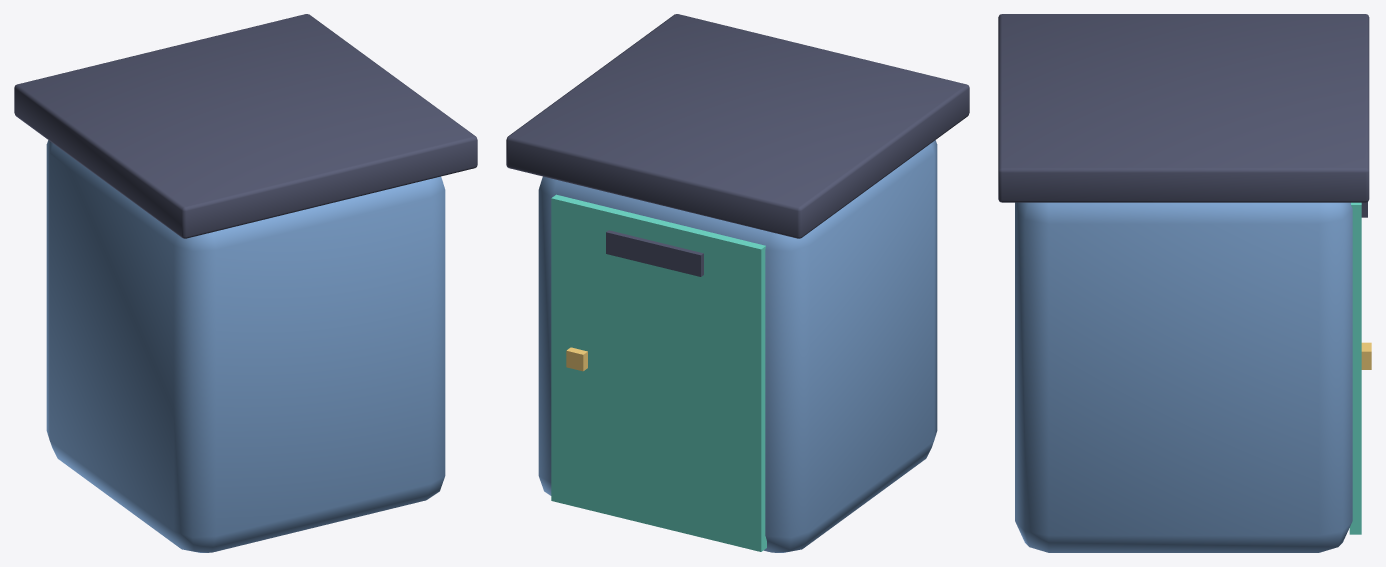
The model's file is FestivalPortaPotty.fbx.
3 views of the same model, side by side, from view 1: azimuth 30°, elevation 25°; view 2: azimuth 150°, elevation 25°; view 3: azimuth 270°, elevation 25° (orthographic). The views are drawn at different scales.
Parts seen in each view (by area): view 1: FestivalPortaPotty Blue__Blue, FestivalPortaPotty Dark__Dark; view 2: FestivalPortaPotty Dark__Dark, FestivalPortaPotty Mint__Mint, FestivalPortaPotty Blue__Blue; view 3: FestivalPortaPotty Blue__Blue, FestivalPortaPotty Dark__Dark, FestivalPortaPotty Mint__Mint.
Part boxes in pixels (x1,y1,x2,y2): FestivalPortaPotty Blue__Blue: [46, 140, 445, 552]; FestivalPortaPotty Dark__Dark: [14, 14, 477, 238]; FestivalPortaPotty Dark__Dark: [506, 14, 969, 276]; FestivalPortaPotty Mint__Mint: [551, 194, 766, 551]; FestivalPortaPotty Blue__Blue: [538, 140, 937, 552]; FestivalPortaPotty Blue__Blue: [1015, 202, 1352, 552]; FestivalPortaPotty Dark__Dark: [998, 14, 1369, 217]; FestivalPortaPotty Mint__Mint: [1349, 202, 1361, 534].
Size of the model in its own units: 242 by 291 by 243.
